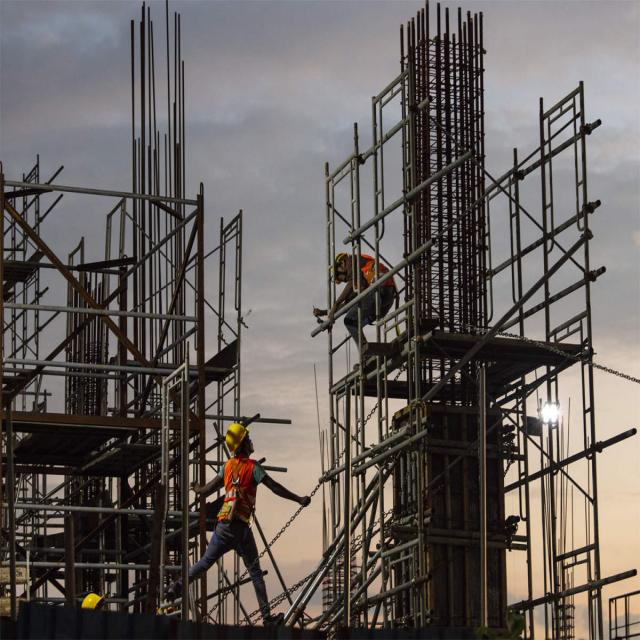Reflective-Jacket: (215, 456, 260, 528)
Safety-Helmet: (222, 419, 252, 451)
